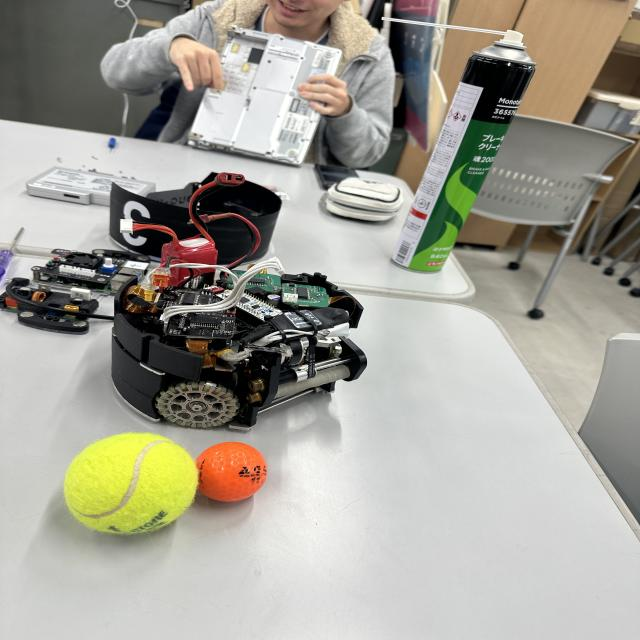ball: (189, 440, 272, 507)
